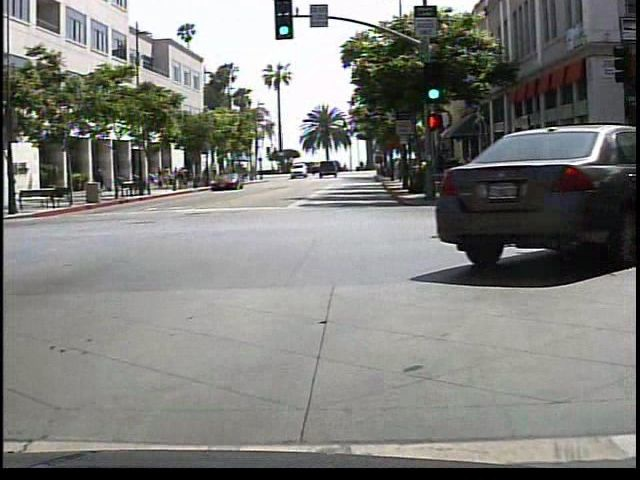person: (91, 161, 108, 194)
